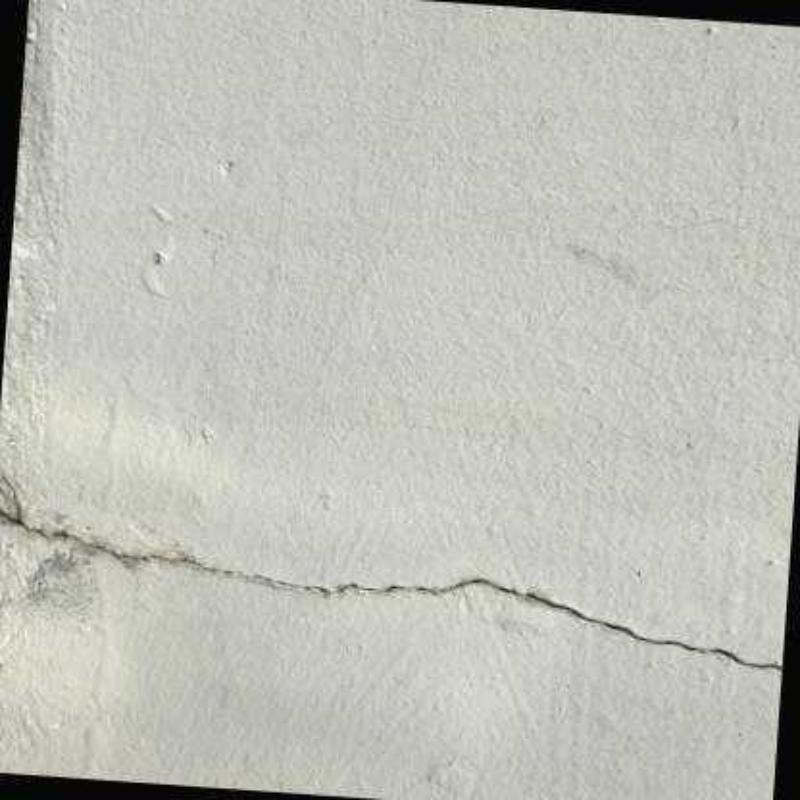pothole: (0, 512, 781, 671)
